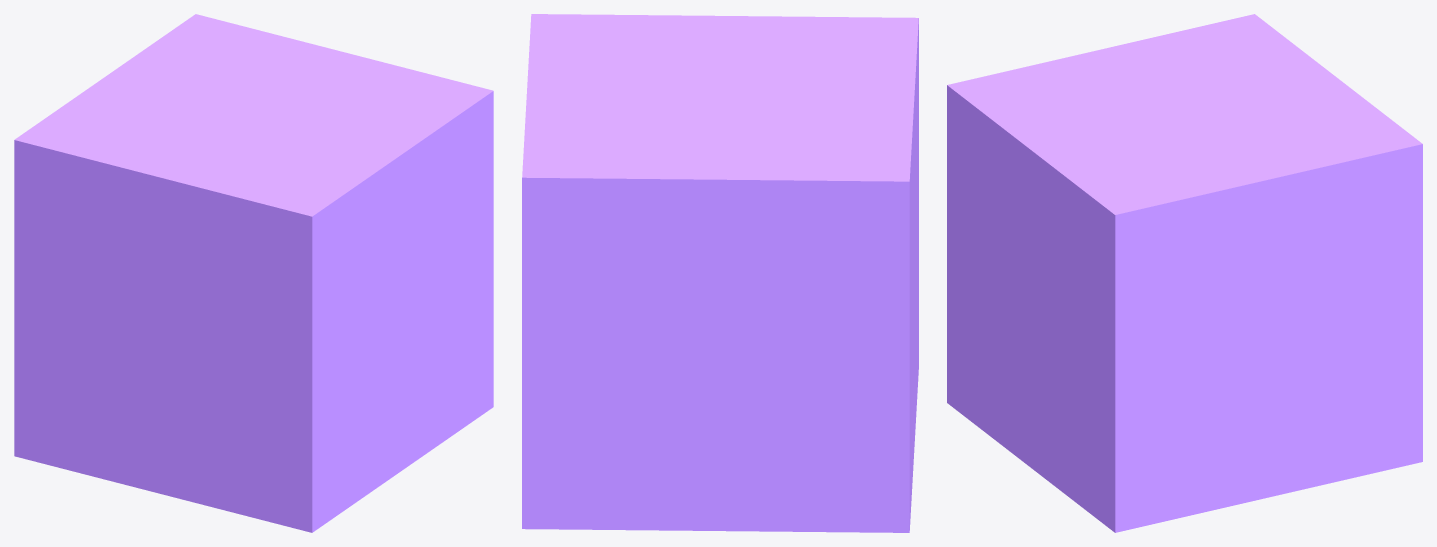
File: demo.glb
The picture shows the model from 3 angles, left to right: view 1: azimuth 30°, elevation 25°; view 2: azimuth 150°, elevation 25°; view 3: azimuth 270°, elevation 25°; orthographic projection. The views are drawn at different scales.
Parts seen in each view (by area): view 1: ViroCube; view 2: ViroCube; view 3: ViroCube.
Boxes of the visible parts, x1=… form: ViroCube: x1=14, y1=14, x2=493, y2=532; ViroCube: x1=522, y1=14, x2=918, y2=532; ViroCube: x1=947, y1=14, x2=1422, y2=532.
Bounding box in the file's own units: 1.36 × 1 × 1.36.
